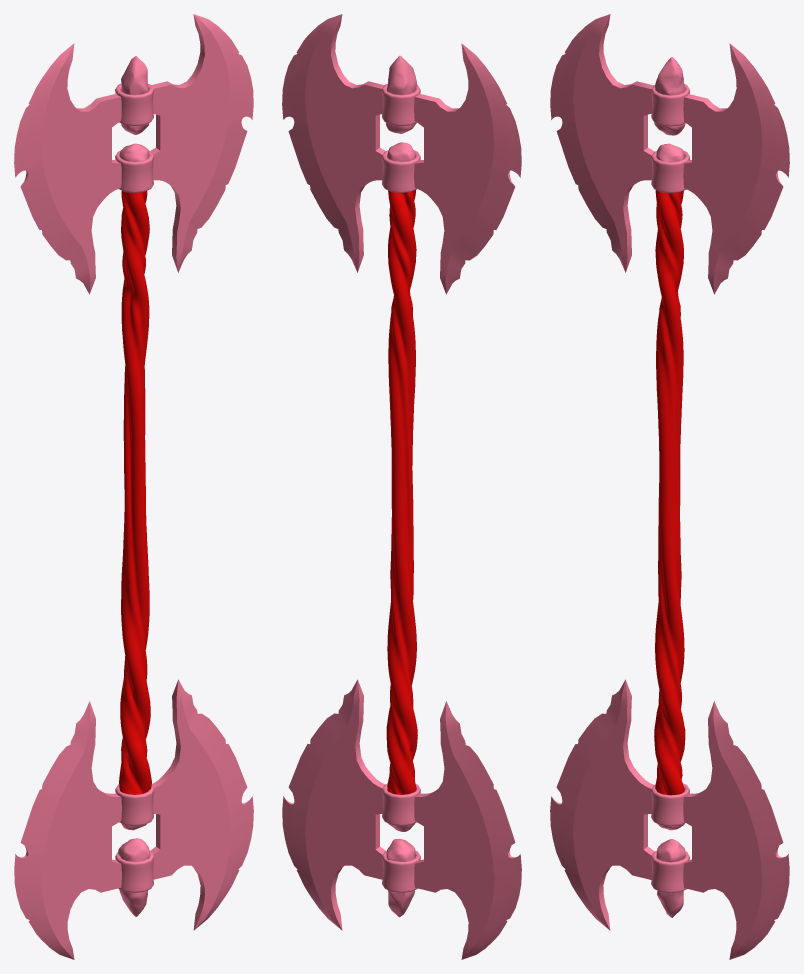
Rendered from uzunbalta.fbx.
The picture shows the model from 3 angles, left to right: view 1: azimuth 30°, elevation 25°; view 2: azimuth 150°, elevation 25°; view 3: azimuth 330°, elevation 25°; orthographic projection.
Visible parts, largest first — view 1: uzunbalta; view 2: uzunbalta; view 3: uzunbalta.
Part boxes in pixels (box(x1,y1,x2,y2)): uzunbalta: box(14, 14, 253, 959); uzunbalta: box(282, 14, 521, 959); uzunbalta: box(550, 14, 789, 959).
Size of the model in its own units: 57.85 by 211 by 8.17.
